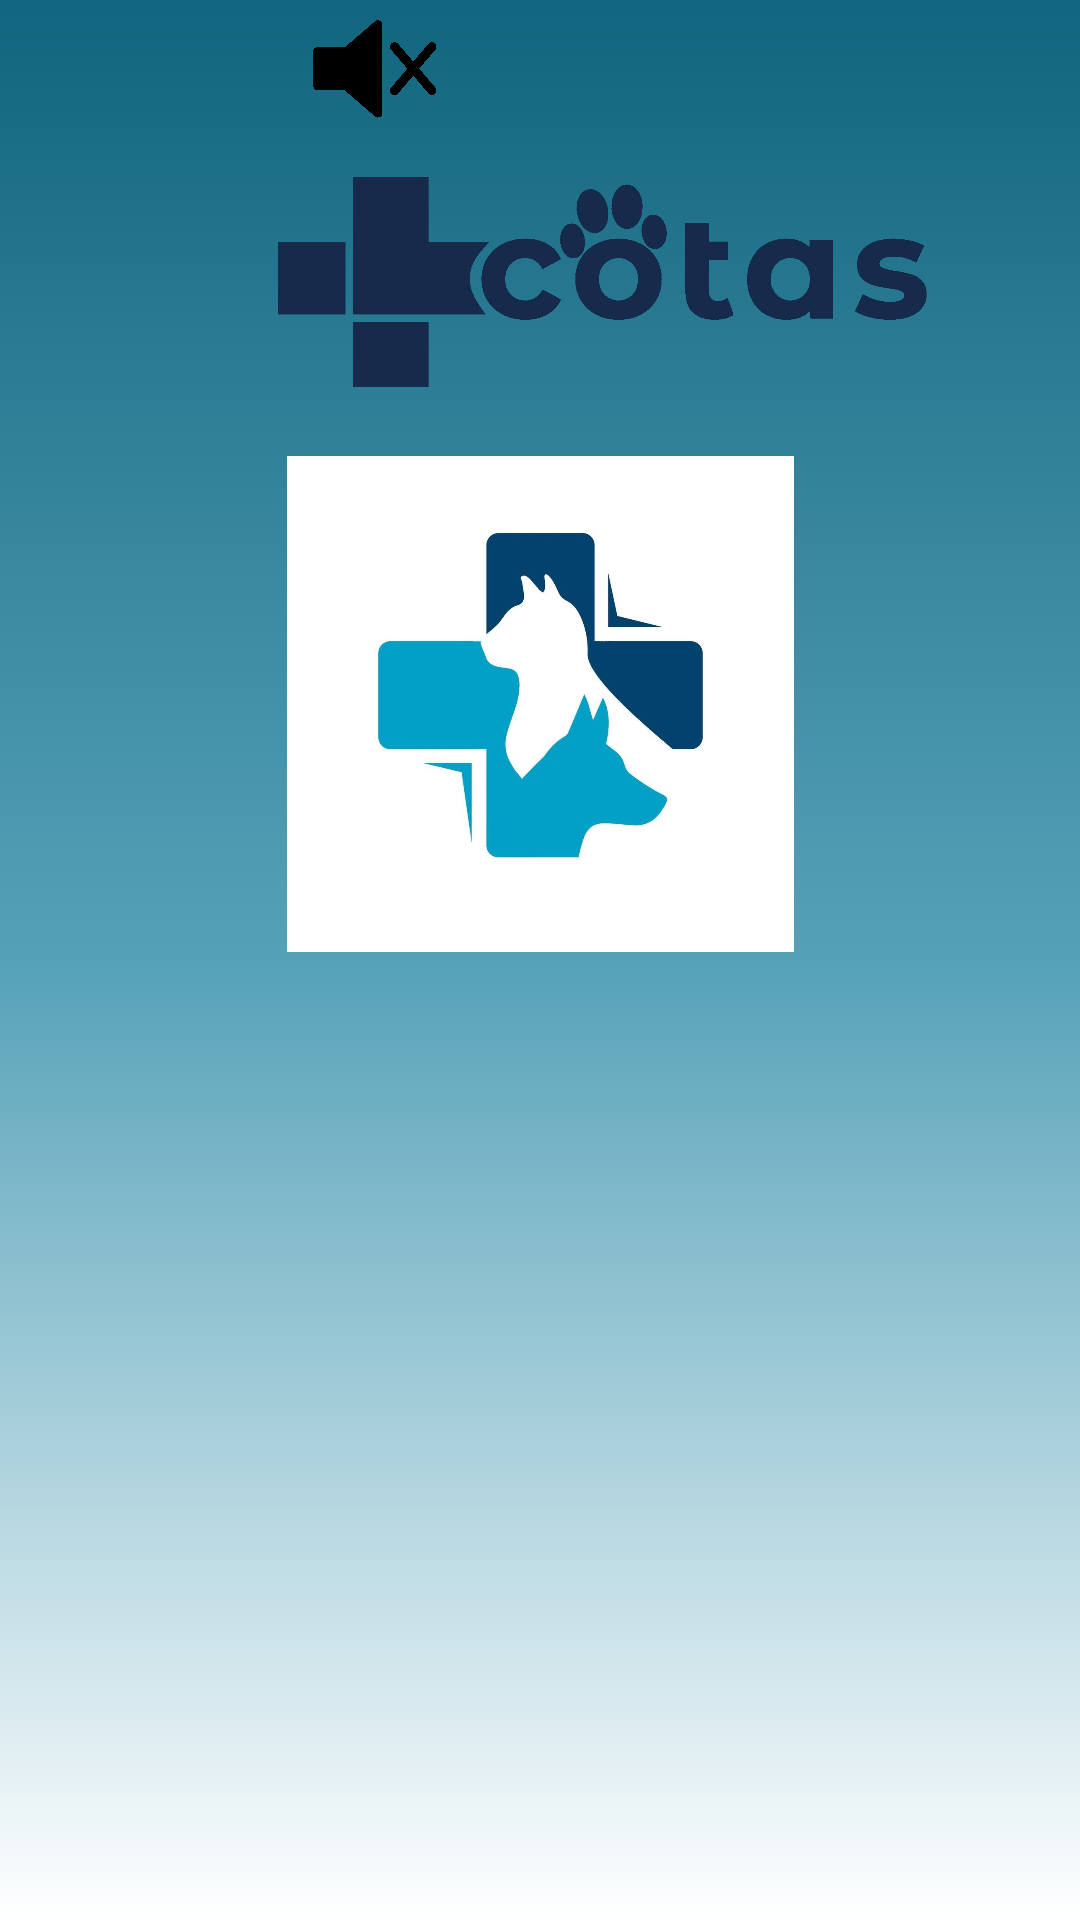

Icon click points for this 1080px×1920px phone screenshot, format (x,y):
sonido off: (374,69)
